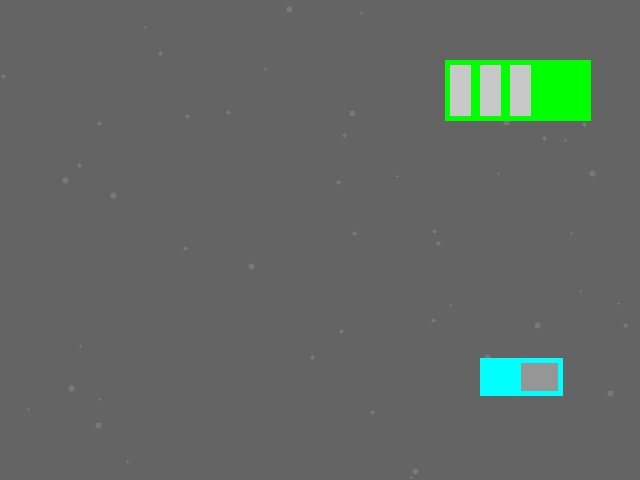bus: (445, 60, 590, 120)
truck: (480, 358, 562, 395)
